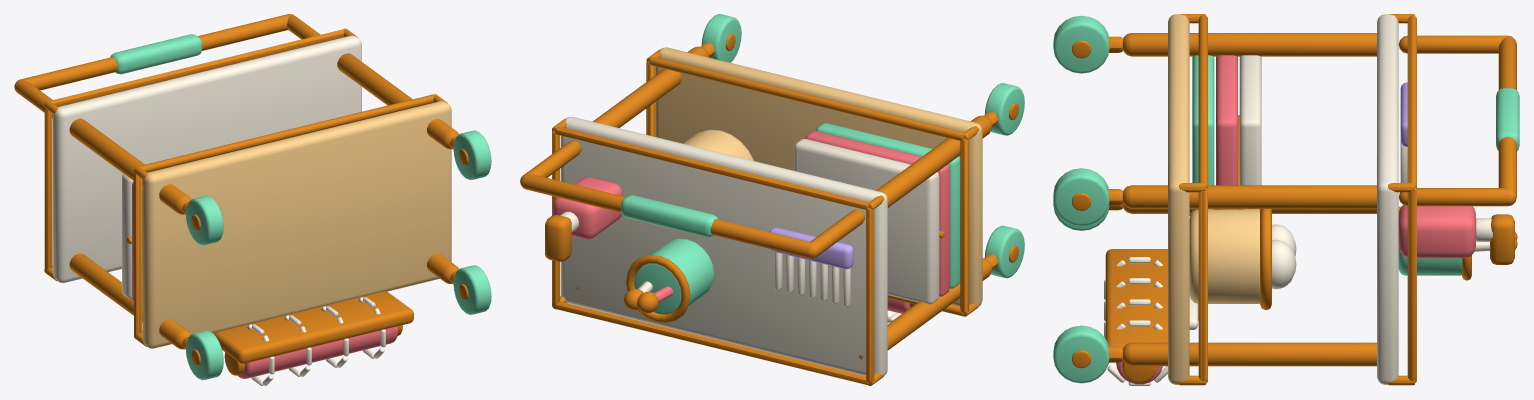
Rendered from BathroomGroomingCart_Premium.fbx.
The picture shows the model from 3 angles, left to right: view 1: azimuth 30°, elevation 25°; view 2: azimuth 150°, elevation 25°; view 3: azimuth 270°, elevation 25°; orthographic projection. The views are drawn at different scales.
Visible parts, largest first — view 1: BathroomGroomingCart; view 2: BathroomGroomingCart; view 3: BathroomGroomingCart.
Boxes of the visible parts, x1=… form: BathroomGroomingCart: x1=14, y1=14, x2=491, y2=385; BathroomGroomingCart: x1=520, y1=14, x2=1024, y2=385; BathroomGroomingCart: x1=1053, y1=14, x2=1519, y2=385.
Bounding box in the file's own units: 0.904 × 0.6278 × 1.03.
